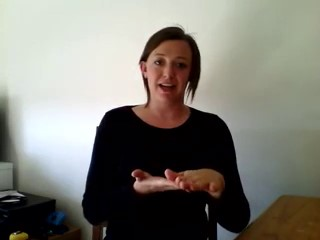H: (123, 162, 235, 204)
